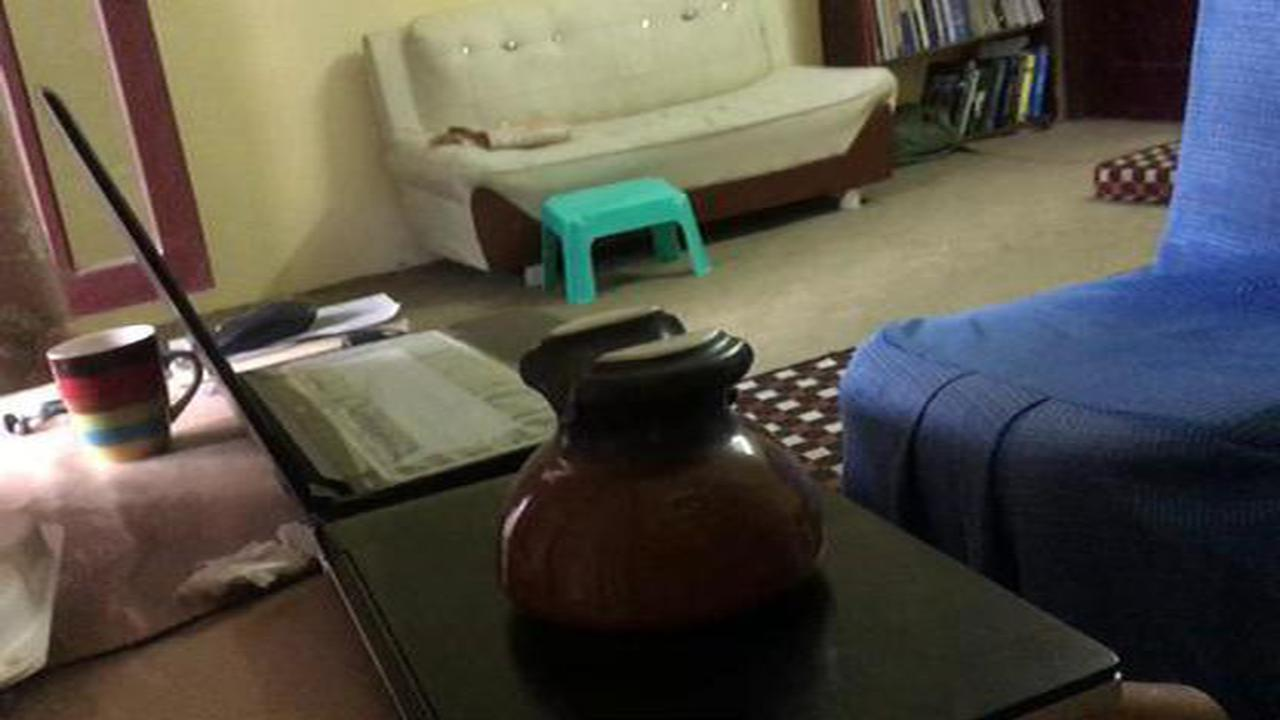insulator_pin: (483, 305, 847, 650)
